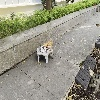fire: (43, 40, 53, 49)
